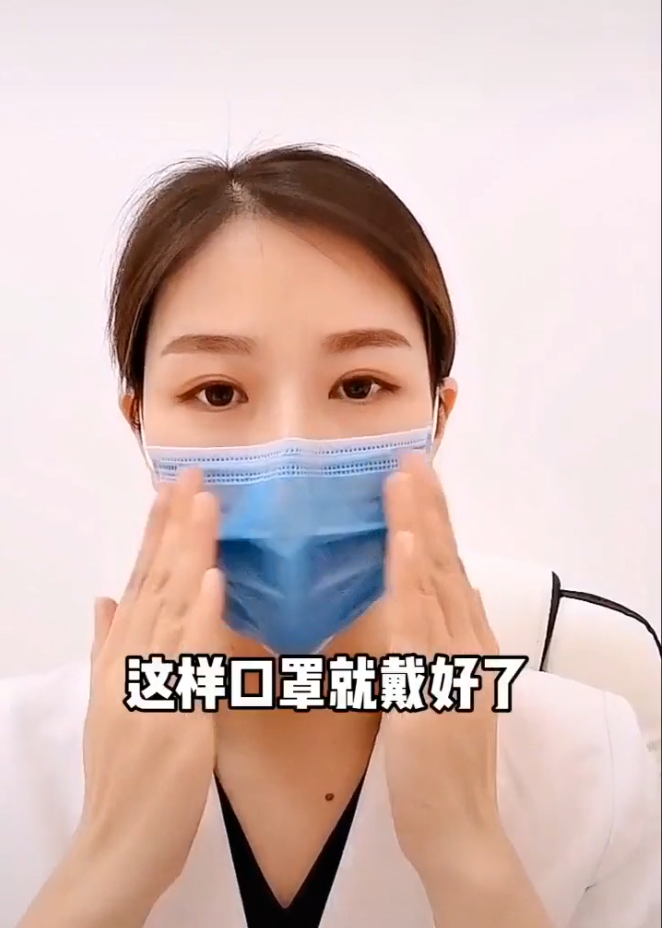face_mask: (145, 253, 429, 631)
